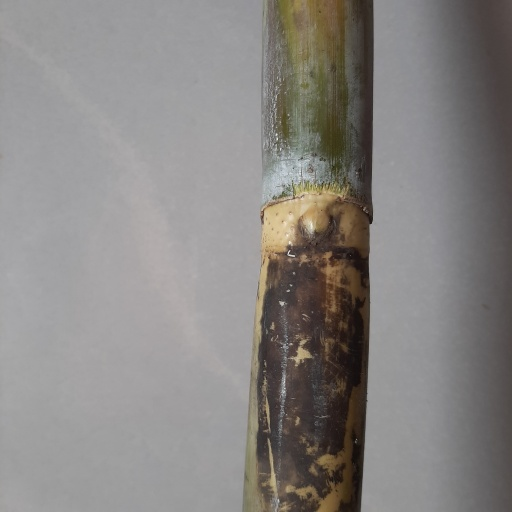Bud: (298, 209, 336, 250)
